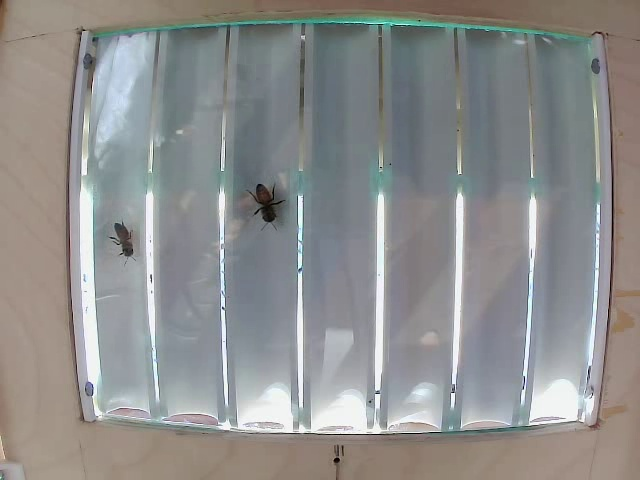bee: (241, 179, 286, 233), (105, 219, 143, 257)
